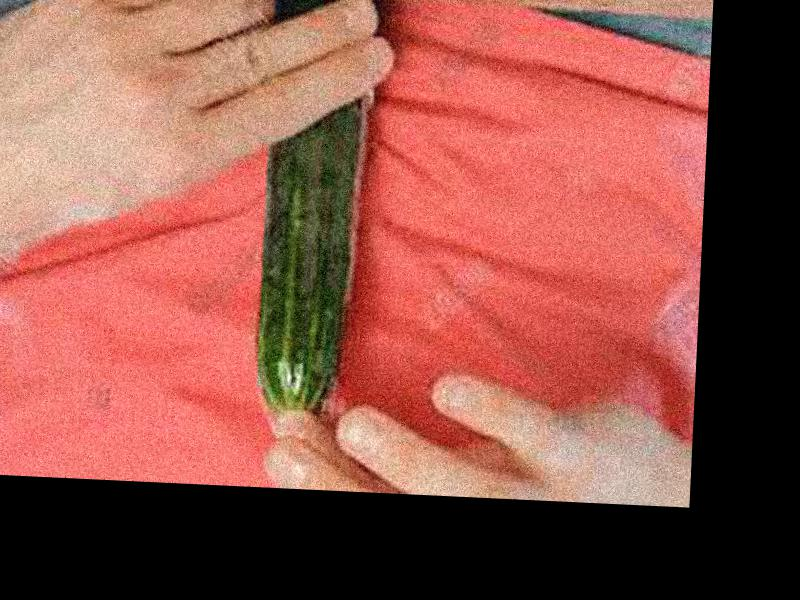Cucumber: (251, 90, 367, 415)
